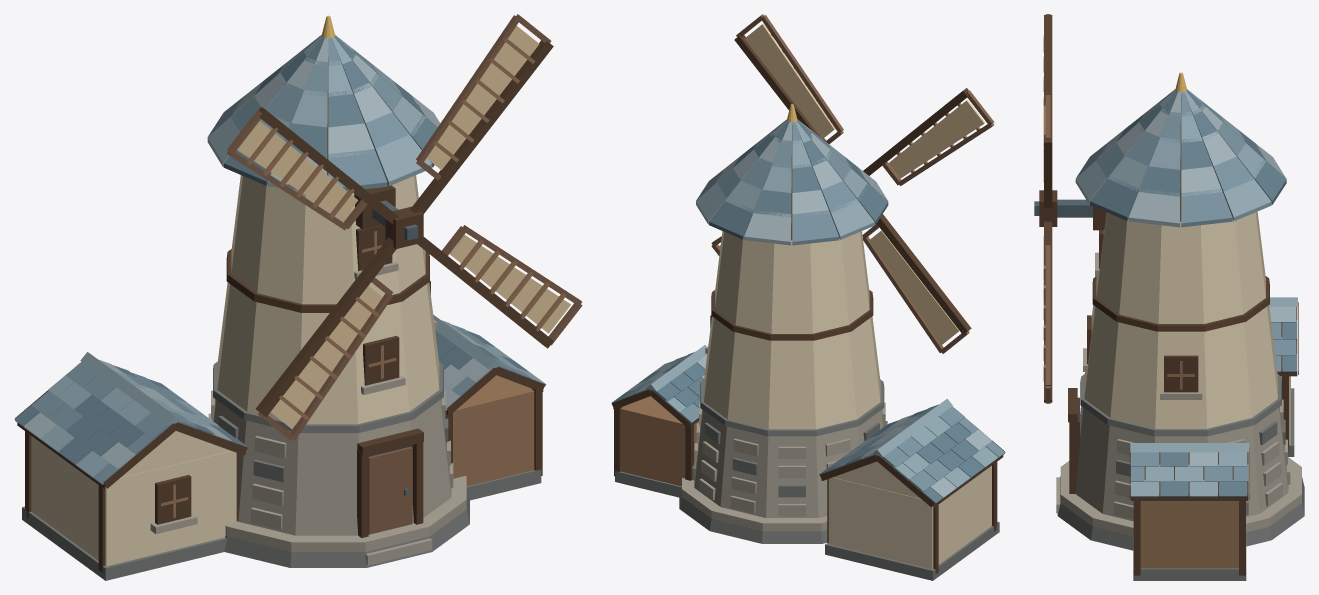
Rendered from ENV_Civic_mill_LOD0.glb.
3 views of the same model, side by side, from view 1: azimuth 30°, elevation 25°; view 2: azimuth 150°, elevation 25°; view 3: azimuth 270°, elevation 25° (orthographic). The views are drawn at different scales.
Visible parts, largest first — view 1: ENV_Civic_mill_LOD0_shell_plasterIvory, ENV_Civic_mill_LOD0_roof_roofTiles, ENV_Civic_mill_LOD0_shell_stone, ENV_Civic_mill_LOD0_stage6_wing_plasterIvory, ENV_Civic_mill_LOD0_mill_sails_plaster.001, ENV_Civic_mill_LOD0_stage6_wing_roofTiles, ENV_Civic_mill_LOD0_mill_sails_woodDark, ENV_Civic_mill_LOD0_shell_woodDark, ENV_Civic_mill_LOD0_stage5_shed_woodLight, ENV_Civic_mill_LOD0_mill_sails_wood, ENV_Civic_mill_LOD0_foundation_stone, ENV_Civic_mill_LOD0_mill_sails_woodLight.001 (+8 smaller); view 2: ENV_Civic_mill_LOD0_shell_plasterIvory, ENV_Civic_mill_LOD0_roof_roofTiles, ENV_Civic_mill_LOD0_stage6_wing_plasterIvory, ENV_Civic_mill_LOD0_shell_stone, ENV_Civic_mill_LOD0_stage6_wing_roofTiles, ENV_Civic_mill_LOD0_mill_sails_plaster.001, ENV_Civic_mill_LOD0_stage5_shed_woodLight, ENV_Civic_mill_LOD0_mill_sails_woodDark, ENV_Civic_mill_LOD0_mill_sails_wood, ENV_Civic_mill_LOD0_stage5_shed_roofTiles, ENV_Civic_mill_LOD0_shell_stoneDark, ENV_Civic_mill_LOD0_foundation_stone (+6 smaller); view 3: ENV_Civic_mill_LOD0_shell_plasterIvory, ENV_Civic_mill_LOD0_roof_roofTiles, ENV_Civic_mill_LOD0_shell_stone, ENV_Civic_mill_LOD0_stage5_shed_woodLight, ENV_Civic_mill_LOD0_stage5_shed_roofTiles, ENV_Civic_mill_LOD0_shell_woodDark, ENV_Civic_mill_LOD0_foundation_stone, ENV_Civic_mill_LOD0_mill_sails_woodDark, ENV_Civic_mill_LOD0_shell_stoneDark, ENV_Civic_mill_LOD0_foundation_stoneDark, ENV_Civic_mill_LOD0_stage5_shed_woodDark, ENV_Civic_mill_LOD0_stage6_wing_roofTiles (+5 smaller).
Boxes of the visible parts, bbox=[...] form: ENV_Civic_mill_LOD0_shell_plasterIvory: bbox=[217, 175, 439, 424]; ENV_Civic_mill_LOD0_roof_roofTiles: bbox=[207, 35, 440, 190]; ENV_Civic_mill_LOD0_shell_stone: bbox=[208, 262, 453, 565]; ENV_Civic_mill_LOD0_stage6_wing_plasterIvory: bbox=[31, 431, 236, 566]; ENV_Civic_mill_LOD0_mill_sails_plaster.001: bbox=[237, 26, 570, 429]; ENV_Civic_mill_LOD0_stage6_wing_roofTiles: bbox=[14, 352, 248, 484]; ENV_Civic_mill_LOD0_mill_sails_woodDark: bbox=[256, 40, 553, 417]; ENV_Civic_mill_LOD0_shell_woodDark: bbox=[226, 183, 430, 537]; ENV_Civic_mill_LOD0_stage5_shed_woodLight: bbox=[453, 375, 534, 486]; ENV_Civic_mill_LOD0_mill_sails_wood: bbox=[227, 14, 582, 440]; ENV_Civic_mill_LOD0_foundation_stone: bbox=[225, 475, 466, 551]; ENV_Civic_mill_LOD0_mill_sails_woodLight.001: bbox=[247, 38, 566, 420]; ENV_Civic_mill_LOD0_shell_plasterIvory: bbox=[704, 231, 880, 429]; ENV_Civic_mill_LOD0_roof_roofTiles: bbox=[696, 119, 888, 245]; ENV_Civic_mill_LOD0_stage6_wing_plasterIvory: bbox=[828, 461, 991, 569]; ENV_Civic_mill_LOD0_shell_stone: bbox=[694, 346, 885, 517]; ENV_Civic_mill_LOD0_stage6_wing_roofTiles: bbox=[819, 398, 1005, 504]; ENV_Civic_mill_LOD0_mill_sails_plaster.001: bbox=[719, 23, 985, 345]; ENV_Civic_mill_LOD0_stage5_shed_woodLight: bbox=[620, 396, 698, 486]; ENV_Civic_mill_LOD0_mill_sails_woodDark: bbox=[734, 35, 971, 334]; ENV_Civic_mill_LOD0_mill_sails_wood: bbox=[711, 14, 994, 353]; ENV_Civic_mill_LOD0_stage5_shed_roofTiles: bbox=[612, 345, 707, 423]; ENV_Civic_mill_LOD0_shell_stoneDark: bbox=[692, 379, 887, 497]; ENV_Civic_mill_LOD0_foundation_stone: bbox=[682, 478, 827, 531]; ENV_Civic_mill_LOD0_shell_plasterIvory: bbox=[1084, 211, 1277, 428]; ENV_Civic_mill_LOD0_roof_roofTiles: bbox=[1075, 89, 1286, 227]; ENV_Civic_mill_LOD0_shell_stone: bbox=[1056, 252, 1290, 521]; ENV_Civic_mill_LOD0_stage5_shed_woodLight: bbox=[1140, 501, 1238, 568]; ENV_Civic_mill_LOD0_stage5_shed_roofTiles: bbox=[1130, 443, 1249, 497]; ENV_Civic_mill_LOD0_shell_woodDark: bbox=[1068, 206, 1269, 493]; ENV_Civic_mill_LOD0_foundation_stone: bbox=[1060, 457, 1301, 536]; ENV_Civic_mill_LOD0_mill_sails_woodDark: bbox=[1039, 15, 1057, 402]; ENV_Civic_mill_LOD0_shell_stoneDark: bbox=[1080, 374, 1285, 515]; ENV_Civic_mill_LOD0_foundation_stoneDark: bbox=[1057, 476, 1304, 550]; ENV_Civic_mill_LOD0_stage5_shed_woodDark: bbox=[1129, 448, 1249, 575]; ENV_Civic_mill_LOD0_stage6_wing_roofTiles: bbox=[1269, 297, 1297, 372].
Size of the model in its own units: 8.76 by 9.99 by 5.39.
